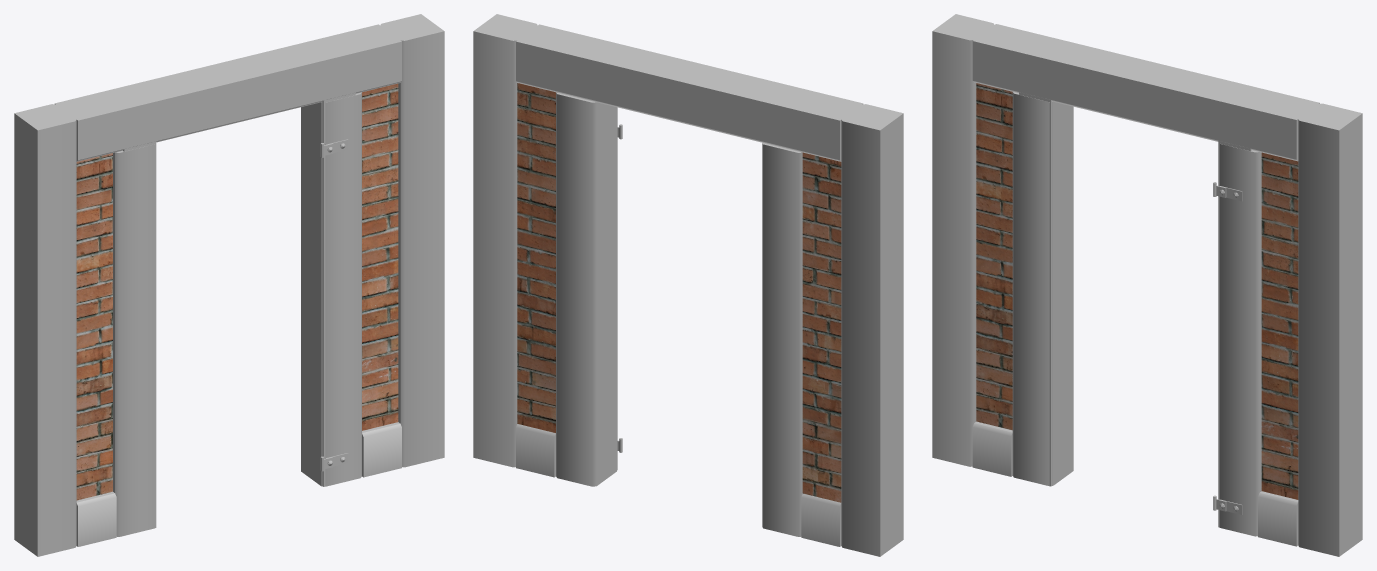
Rendered from PlankGate_Straight_FrameWBrick.fbx.
The picture shows the model from 3 angles, left to right: view 1: azimuth 30°, elevation 25°; view 2: azimuth 150°, elevation 25°; view 3: azimuth 330°, elevation 25°; orthographic projection.
Parts seen in each view (by area): view 1: House Half Timber Door; view 2: House Half Timber Door; view 3: House Half Timber Door.
Boxes of the visible parts, <box> form: House Half Timber Door: <box>14,14,444,556</box>; House Half Timber Door: <box>473,14,903,556</box>; House Half Timber Door: <box>932,14,1362,556</box>.
Bounding box in the file's own units: 250 × 250 × 27.37.
